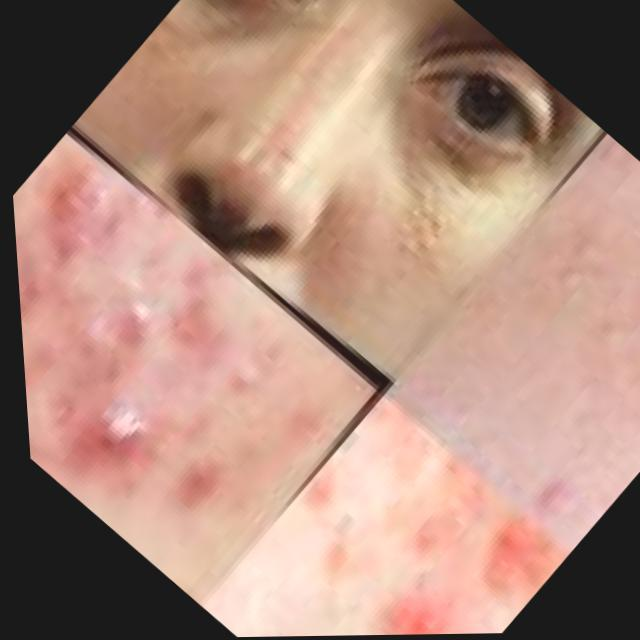cyst: (87, 397, 152, 512), (38, 161, 100, 265), (56, 293, 121, 376), (123, 293, 171, 349), (499, 520, 532, 586), (387, 598, 429, 640), (226, 351, 258, 403)
